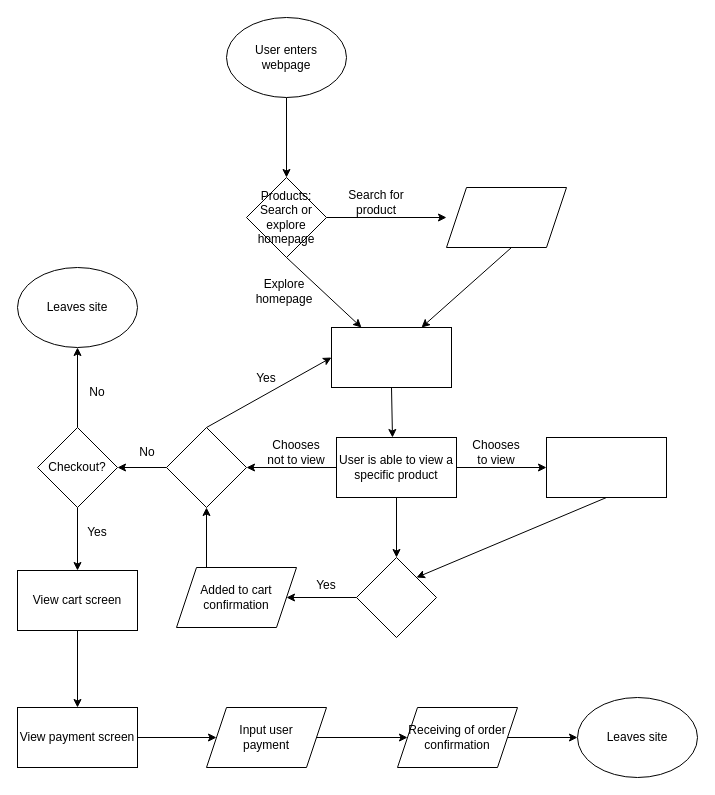
Some shapes in this 715 by 795 pixel diagram are drawn without their labels. Each missing label, with the box of its shape:
Add to cart?: (356, 556, 436, 638)
Continue shopping?: (166, 426, 246, 508)
Product's webpage appears: (546, 436, 666, 498)
Provide input for search: (446, 186, 566, 248)
User begins looking at products: (330, 326, 452, 388)
